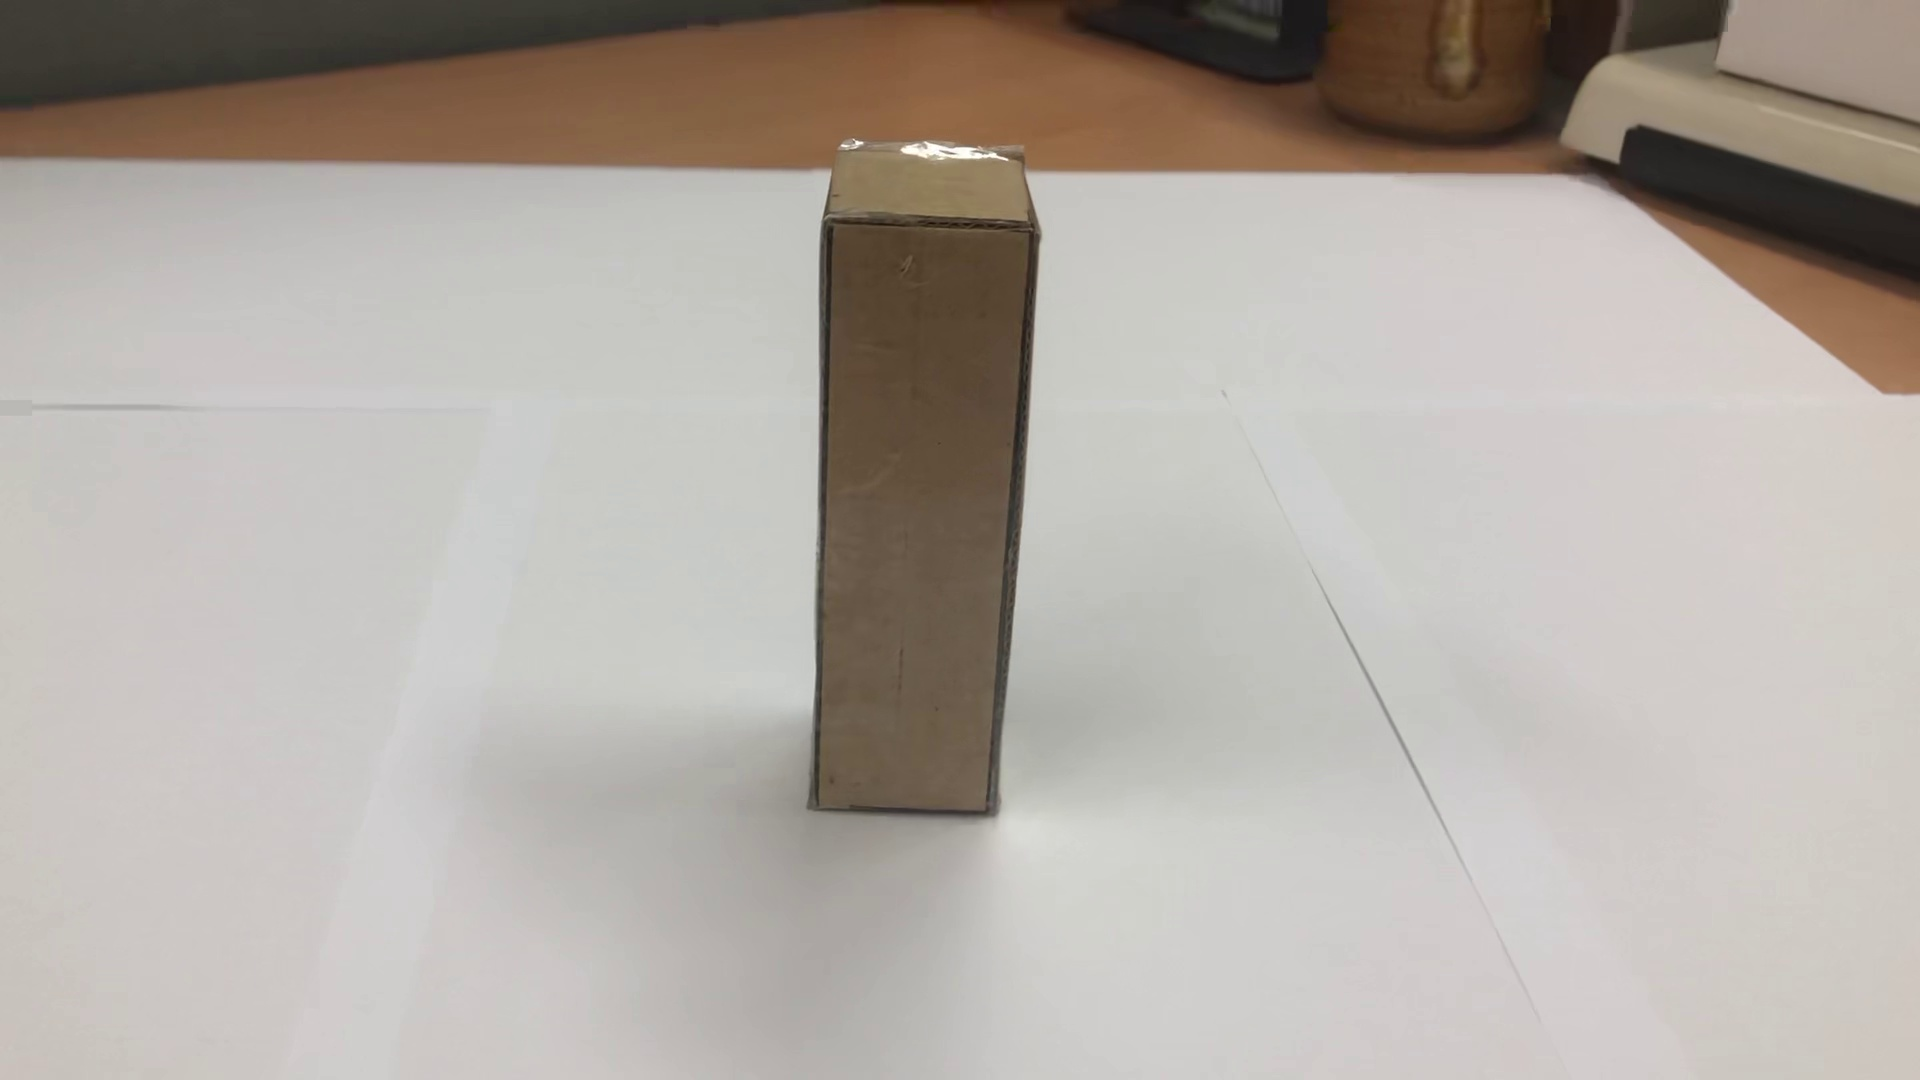box: (742, 127, 1076, 873)
